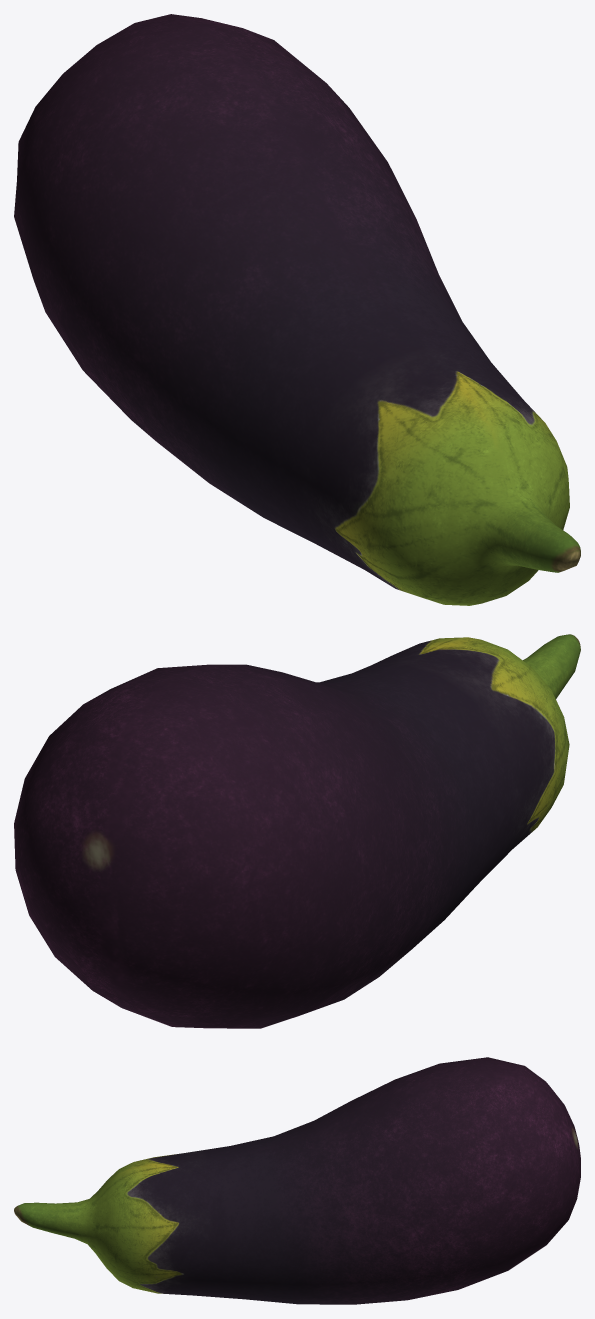
File: Eggplant01.fbx
3 views of the same model, one above another, from view 1: azimuth 30°, elevation 25°; view 2: azimuth 150°, elevation 25°; view 3: azimuth 270°, elevation 25° (orthographic). The views are drawn at different scales.
Visible parts, largest first — view 1: Eggplant; view 2: Eggplant; view 3: Eggplant.
Boxes of the visible parts, x1,y1,x2,y2 form: Eggplant: [14, 14, 580, 605]; Eggplant: [14, 634, 580, 1028]; Eggplant: [14, 1057, 580, 1304].
Bounding box in the file's own units: 1185 × 1353 × 3029.
